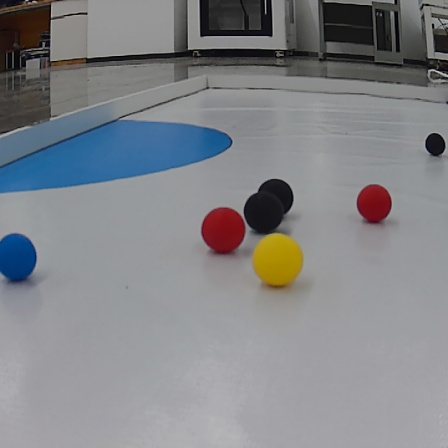black: (244, 194, 289, 234), (258, 172, 303, 211), (425, 132, 448, 156)
blue: (0, 230, 43, 287)
blue_base: (4, 107, 240, 194)
red: (199, 207, 244, 255), (356, 183, 393, 223)
yellow: (251, 233, 310, 300)
